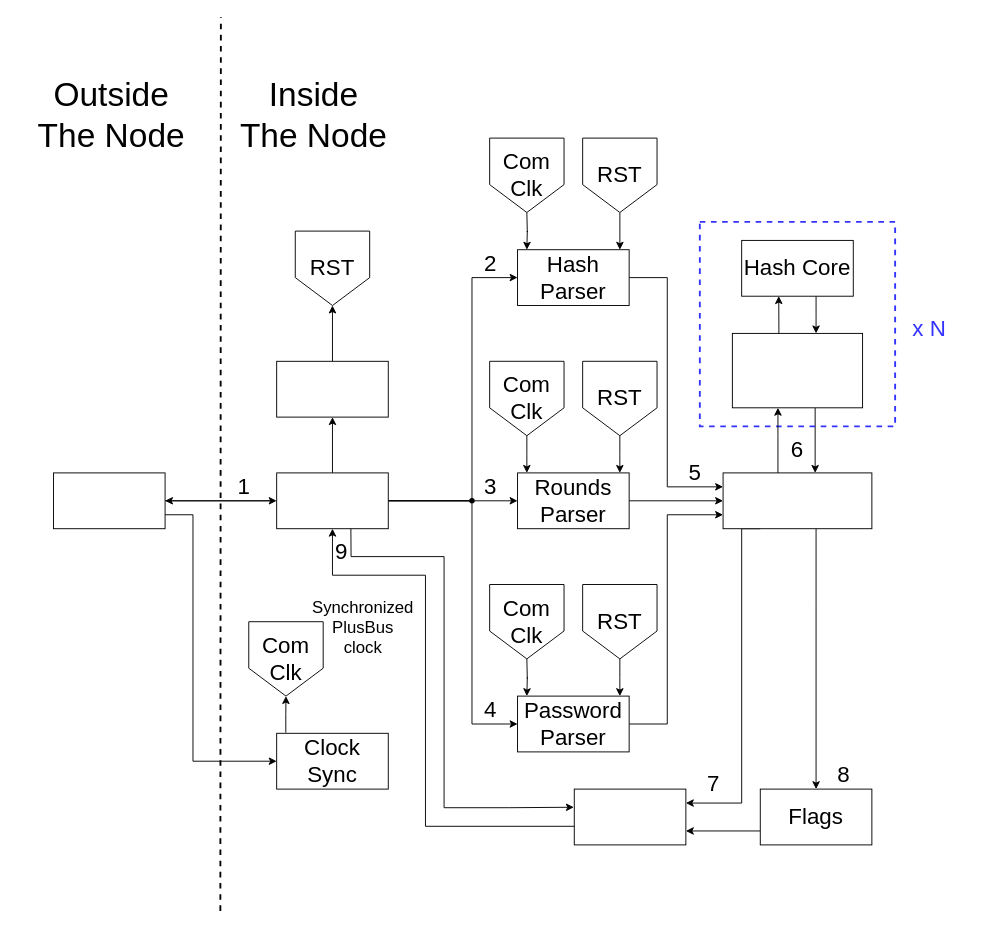
Some shapes in this 999 by 928 pixel diagram are drawn without their labels. Here are the shapes that lost their labels. From the top down, the box of each, then its label:
(276, 360, 388, 417): Reset Logic
(731, 332, 863, 408): Multi Round Hasher
(53, 472, 165, 529): PlusBus
(276, 472, 388, 529): Data Link
(722, 472, 872, 529): Core Controller
(573, 788, 686, 845): Message Sender
